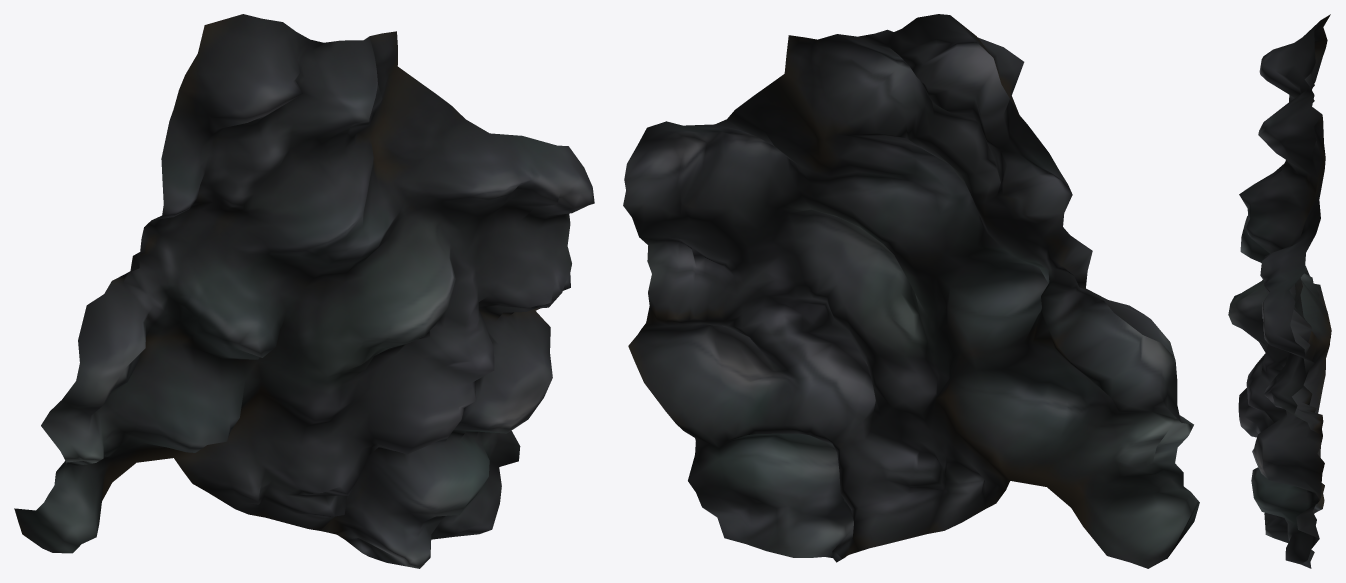
The model's file is Mussels09.fbx.
3 renders of one model, left to right at view 1: azimuth 30°, elevation 25°; view 2: azimuth 150°, elevation 25°; view 3: azimuth 270°, elevation 25°, orthographic. The views are drawn at different scales.
Parts seen in each view (by area): view 1: Mussels09; view 2: Mussels09; view 3: Mussels09.
Part boxes in pixels (box(x1,y1,x2,y2)): Mussels09: box(14, 14, 594, 568); Mussels09: box(623, 14, 1199, 568); Mussels09: box(1228, 14, 1331, 568).
Size of the model in its own units: 54.41 by 53.51 by 10.75.
